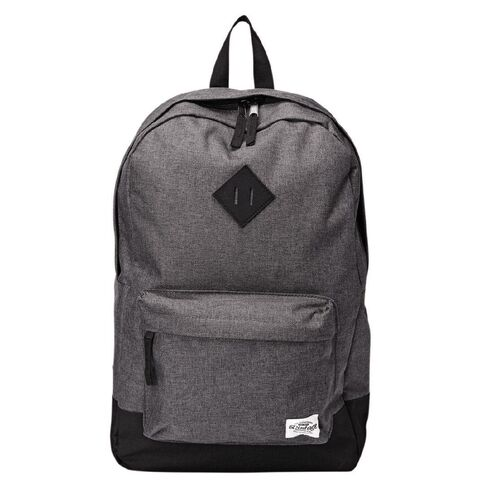backpack: (104, 10, 371, 475)
